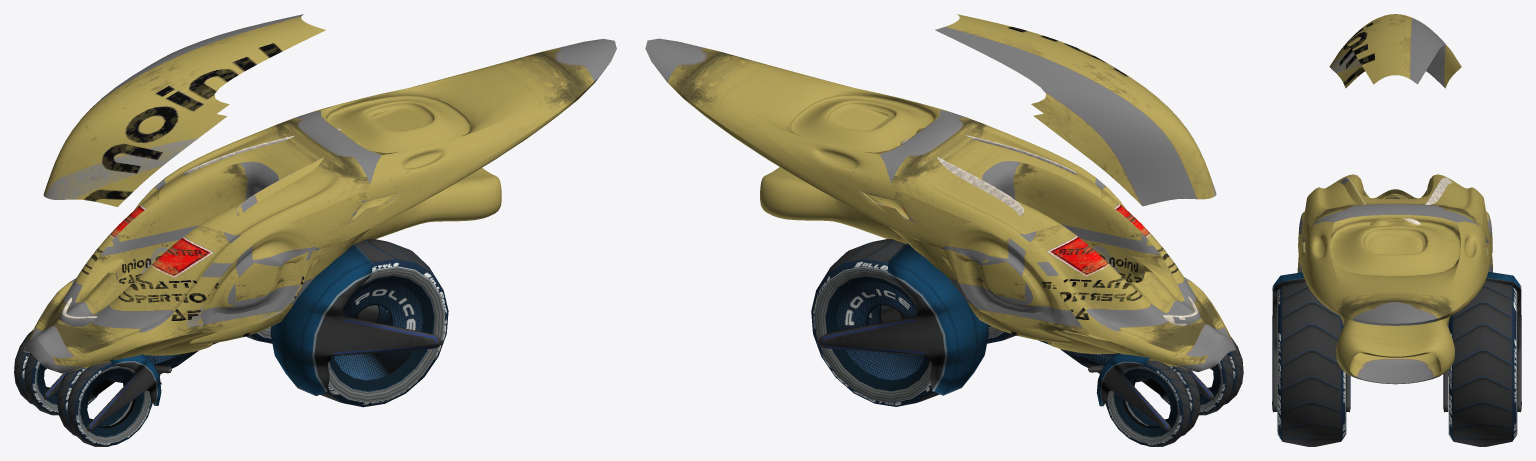
The model's file is carMain.fbx.
The picture shows the model from 3 angles, left to right: view 1: azimuth 30°, elevation 25°; view 2: azimuth 150°, elevation 25°; view 3: azimuth 270°, elevation 25°; orthographic projection.
Visible parts, largest first — view 1: polySurface74, polySurface77, polySurface75, polySurface1, polySurface98, polySurface7, polySurface12, polySurface99, polySurface106, polySurface121, polySurface97, pasted__polySurface2 (+8 smaller); view 2: polySurface74, polySurface77, polySurface75, pasted__polySurface1, polySurface98, pasted__polySurface7, polySurface12, polySurface100, polySurface106, polySurface95, polySurface121, polySurface97 (+6 smaller); view 3: pasted__polySurface1, polySurface1, polySurface106, polySurface75, polySurface74, polySurface121, polySurface77, polySurface99, polySurface100, polySurface7, pasted__polySurface7, polySurface97 (+1 smaller).
Boxes of the visible parts, left/top/right/bottom form: polySurface74: left=43, top=14, right=325, bottom=206; polySurface77: left=23, top=110, right=381, bottom=373; polySurface75: left=321, top=39, right=616, bottom=241; polySurface1: left=320, top=239, right=448, bottom=407; polySurface98: left=30, top=179, right=241, bottom=358; polySurface7: left=270, top=244, right=442, bottom=395; polySurface12: left=74, top=161, right=278, bottom=315; polySurface99: left=289, top=117, right=511, bottom=249; polySurface106: left=59, top=128, right=501, bottom=355; polySurface121: left=326, top=95, right=470, bottom=153; polySurface97: left=189, top=67, right=606, bottom=346; pasted__polySurface2: left=67, top=362, right=152, bottom=446; polySurface74: left=935, top=14, right=1216, bottom=206; polySurface77: left=879, top=110, right=1236, bottom=371; polySurface75: left=645, top=38, right=940, bottom=240; pasted__polySurface1: left=811, top=239, right=939, bottom=406; polySurface98: left=1020, top=178, right=1229, bottom=356; pasted__polySurface7: left=818, top=243, right=988, bottom=395; polySurface12: left=982, top=161, right=1185, bottom=313; polySurface100: left=750, top=117, right=971, bottom=248; polySurface106: left=760, top=128, right=1200, bottom=353; polySurface95: left=941, top=237, right=1191, bottom=370; polySurface121: left=791, top=94, right=934, bottom=152; polySurface97: left=655, top=66, right=1071, bottom=344; pasted__polySurface1: left=1448, top=280, right=1517, bottom=446; polySurface1: left=1277, top=281, right=1346, bottom=446; polySurface106: left=1336, top=177, right=1455, bottom=384; polySurface75: left=1300, top=215, right=1490, bottom=323; polySurface74: left=1329, top=14, right=1461, bottom=88; polySurface121: left=1330, top=221, right=1460, bottom=275; polySurface77: left=1297, top=174, right=1491, bottom=272; polySurface99: left=1300, top=204, right=1338, bottom=283; polySurface100: left=1452, top=204, right=1490, bottom=283; polySurface7: left=1272, top=272, right=1350, bottom=412; pasted__polySurface7: left=1443, top=271, right=1521, bottom=412; polySurface97: left=1300, top=259, right=1490, bottom=325.
Size of the model in its own units: 399 by 230 by 147.
